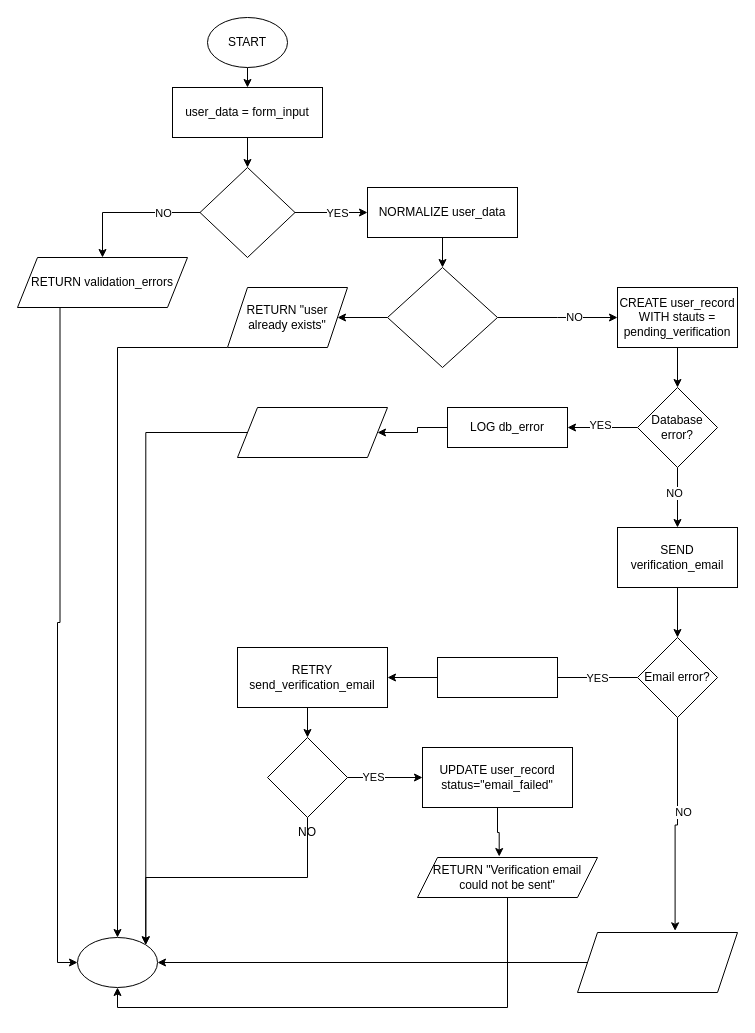
The diagram is 755 pixels wide and 1033 high, and some of its shapes have lost their labels. Each missing label, with the centre of its shape:
Duplicated email?: point 442,317
email still fails?: point 307,777
END: point 117,962
LOG email_error: point 497,677
RETURN "Database failure": point 312,432
RETURN "user created succesfully": point 657,962
validate data?: point 247,212
